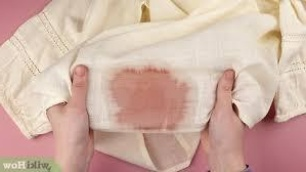wine: (106, 68, 184, 130)
